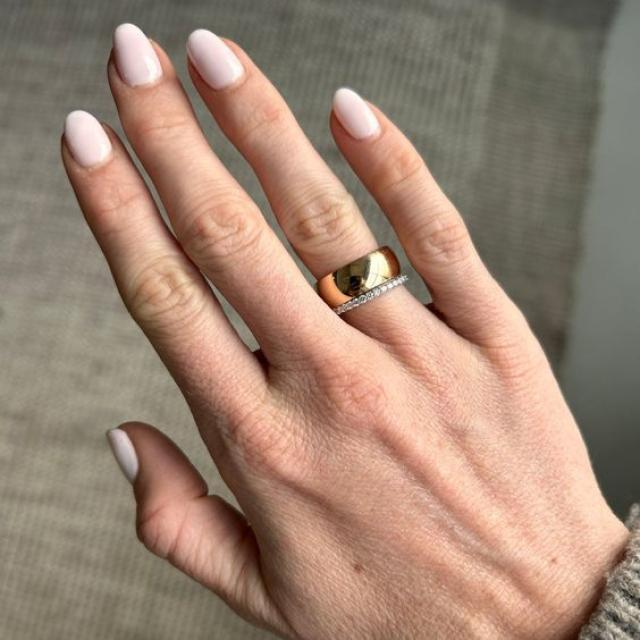Fingernail: (185, 29, 245, 90), (113, 23, 162, 87), (66, 110, 112, 167), (334, 86, 379, 140), (105, 429, 139, 483)
